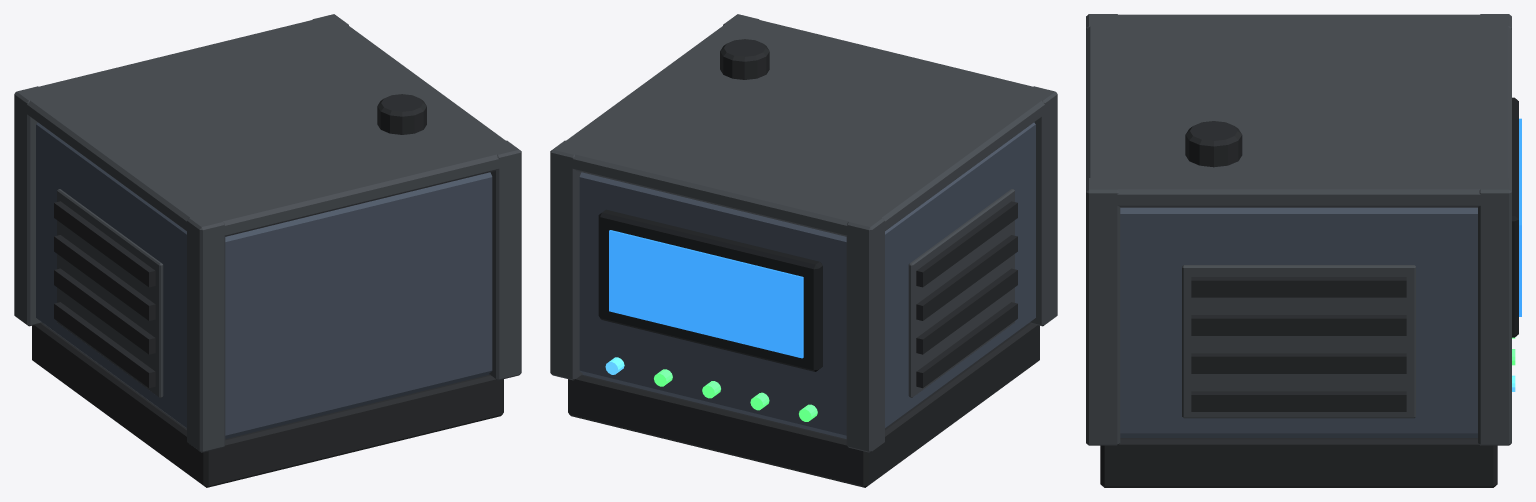
The model's file is autopilot_core.glb.
3 renders of one model, left to right at view 1: azimuth 30°, elevation 25°; view 2: azimuth 150°, elevation 25°; view 3: azimuth 270°, elevation 25°, orthographic. The views are drawn at different scales.
Parts seen in each view (by area): view 1: autopilot_core; view 2: autopilot_core; view 3: autopilot_core.
Part boxes in pixels (x1,y1,x2,y2): autopilot_core: [14, 14, 521, 487]; autopilot_core: [550, 14, 1057, 487]; autopilot_core: [1086, 14, 1521, 487].
Bounding box in the file's own units: 0.6 × 0.5 × 0.6.
